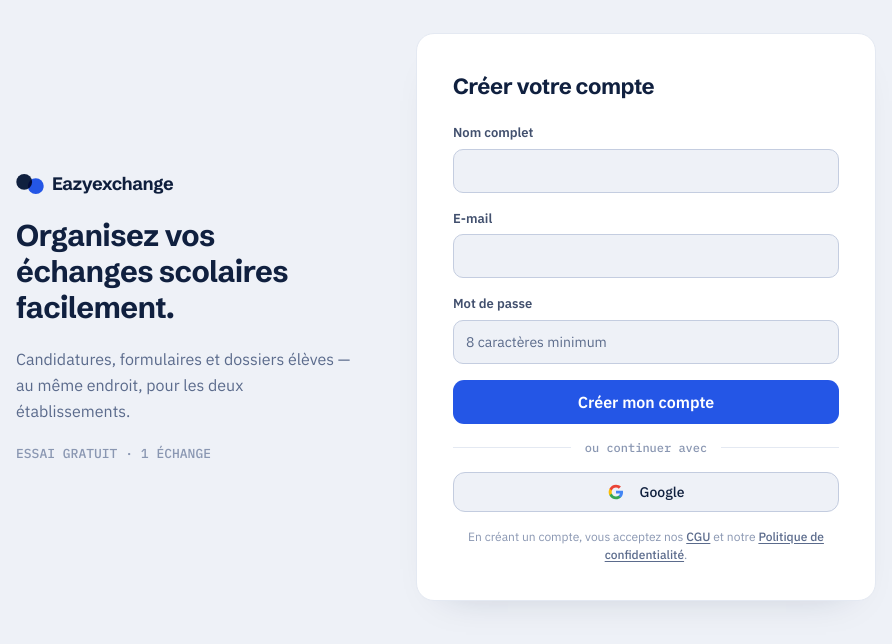
Test case: SignupPage (French) › surfaces the Supabase message on a signup failure
This screenshot has width=892, height=644.
In the field labelled "Nom complet": [646, 171] box x1=453 y1=149 x2=839 y2=193, type "Jane Doe"
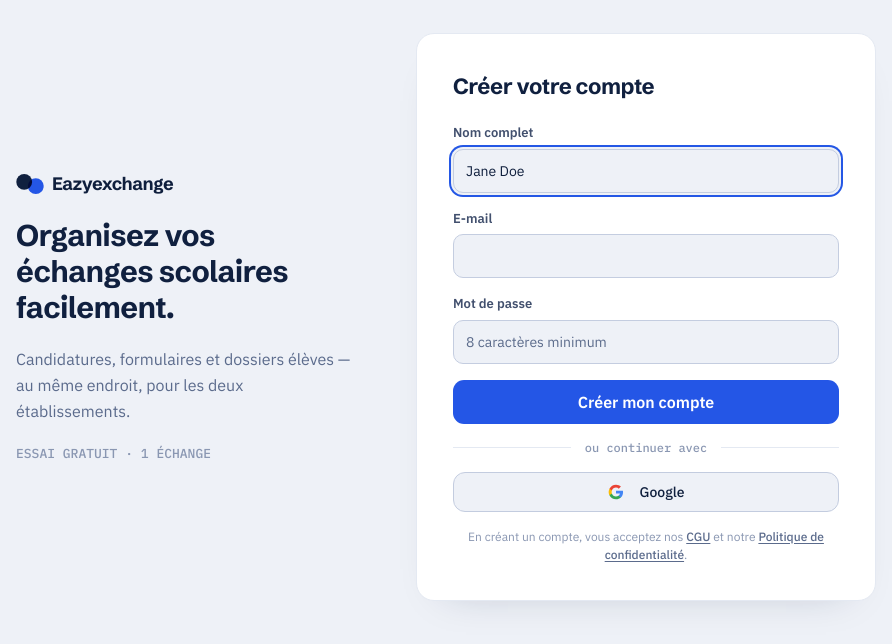
In the field labelled "E-mail": [646, 256] box x1=453 y1=234 x2=839 y2=278, type "jane@example.com"
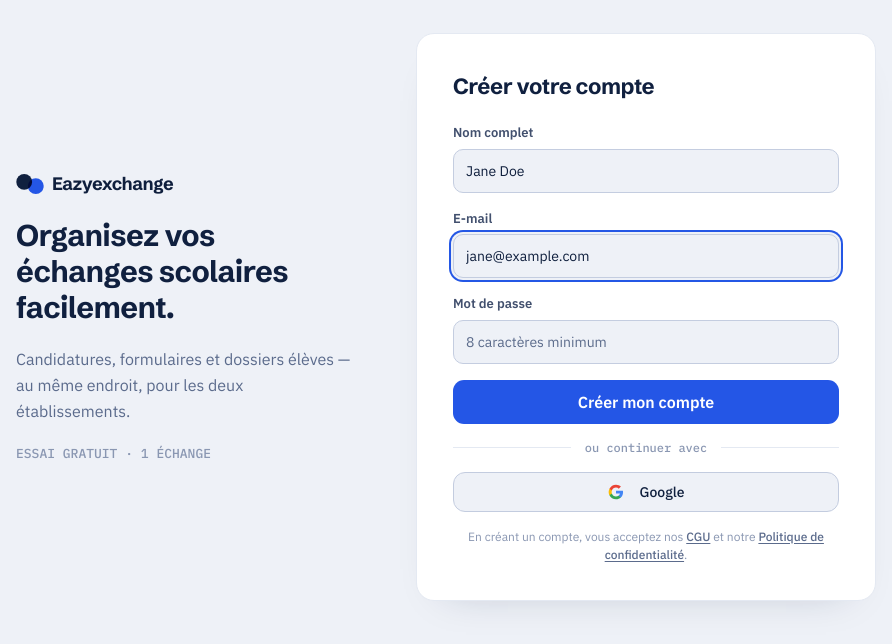
In the password field labelled "Mot de passe": [646, 342] box x1=453 y1=320 x2=839 y2=364, type "supersecret"
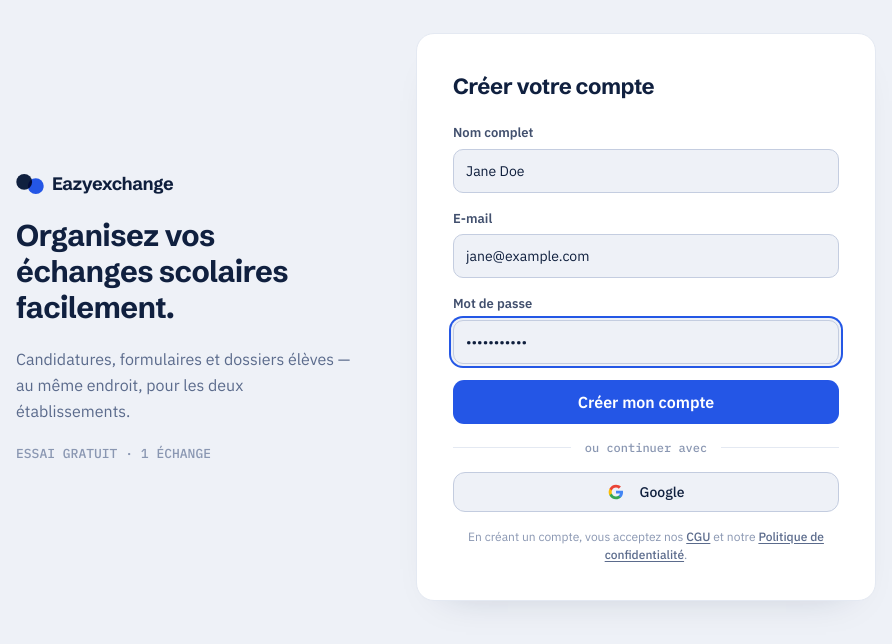
Click the button "Créer mon compte": [646, 402] box x1=453 y1=380 x2=839 y2=424
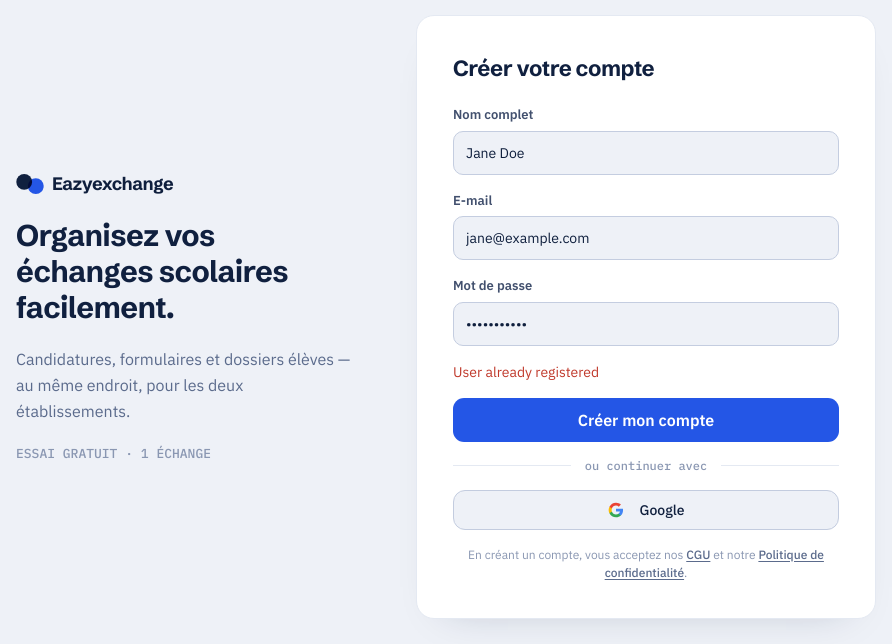
expect the text "User already registered" is shown: met, box x1=453 y1=363 x2=599 y2=381
